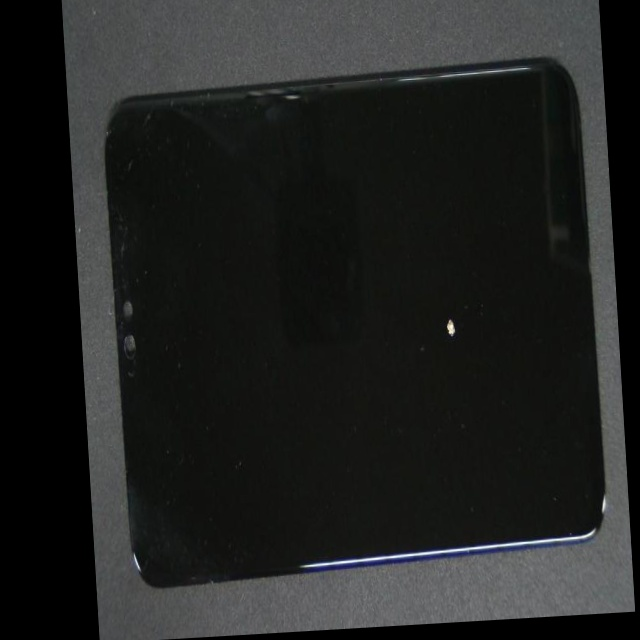stain: (251, 110, 629, 526)
